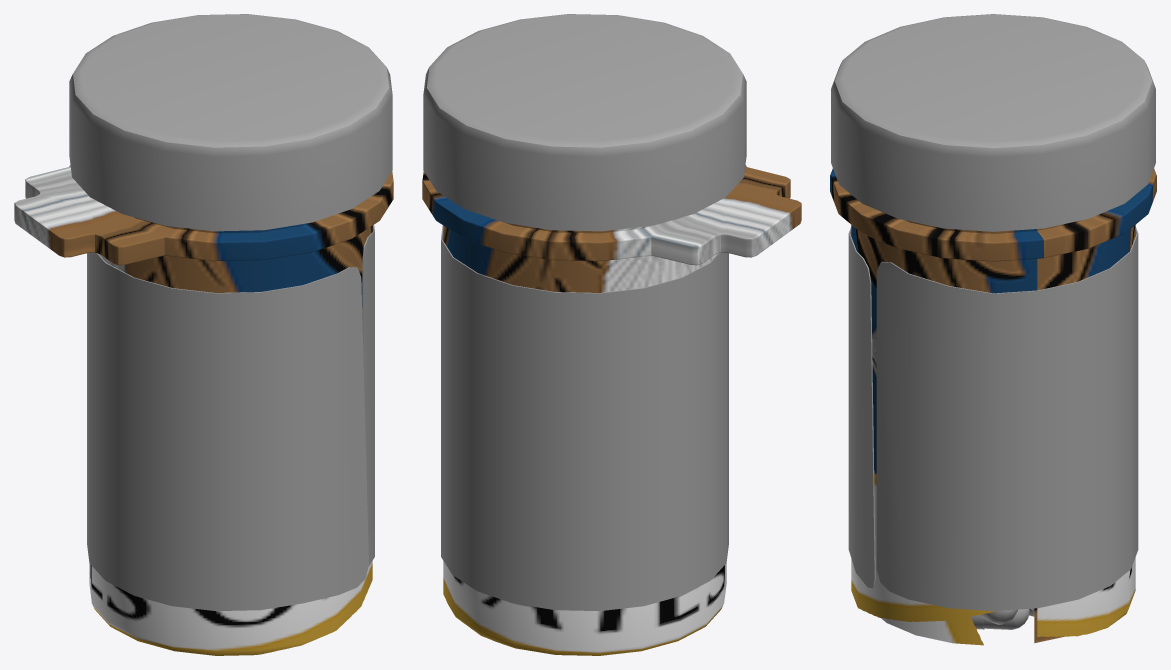
Rendered from pill_bottle_A.fbx.
3 views of the same model, side by side, from view 1: azimuth 30°, elevation 25°; view 2: azimuth 150°, elevation 25°; view 3: azimuth 270°, elevation 25° (orthographic).
Parts seen in each view (by area): view 1: polySurface728; view 2: polySurface728; view 3: polySurface728.
Boxes of the visible parts, x1,y1,x2,y2 form: polySurface728: (14, 14, 393, 655); polySurface728: (422, 14, 801, 655); polySurface728: (830, 14, 1156, 645).
Size of the model in its own units: 0.0611 by 0.0909 by 0.0516.
